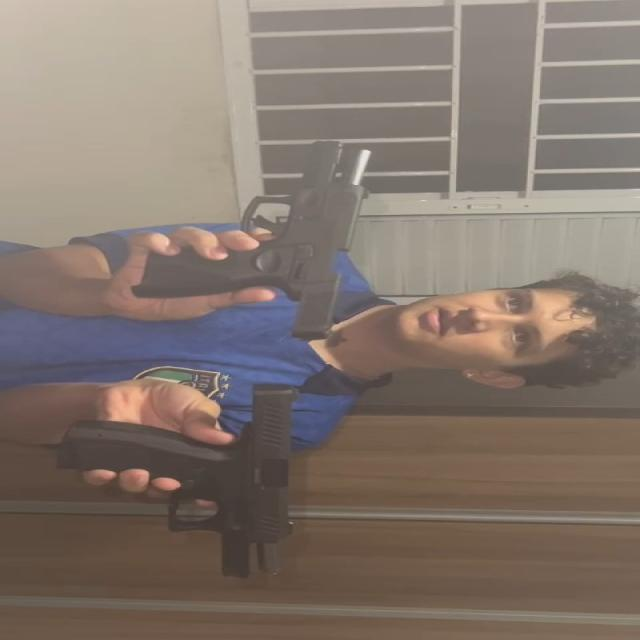gun: (58, 384, 307, 583), (130, 140, 372, 340)
